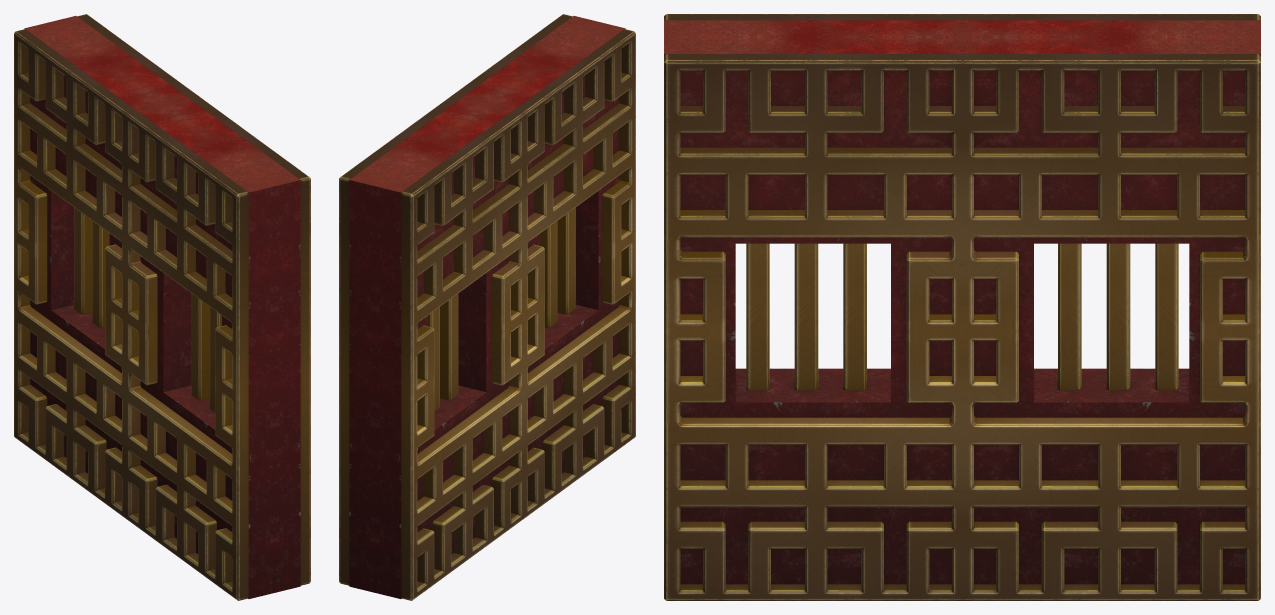
The model's file is SM_Wall3x3.glb.
3 views of the same model, side by side, from view 1: azimuth 30°, elevation 25°; view 2: azimuth 150°, elevation 25°; view 3: azimuth 270°, elevation 25° (orthographic). The views are drawn at different scales.
Parts seen in each view (by area): view 1: SM_Wall3x3_LOD0; view 2: SM_Wall3x3_LOD0; view 3: SM_Wall3x3_LOD0.
Part boxes in pixels (box(x1,y1,x2,y2)): SM_Wall3x3_LOD0: box(14, 14, 310, 600); SM_Wall3x3_LOD0: box(339, 14, 635, 600); SM_Wall3x3_LOD0: box(664, 14, 1260, 600).
Size of the model in its own units: 0.5719 by 3 by 3.
1 material, 1 textured.
